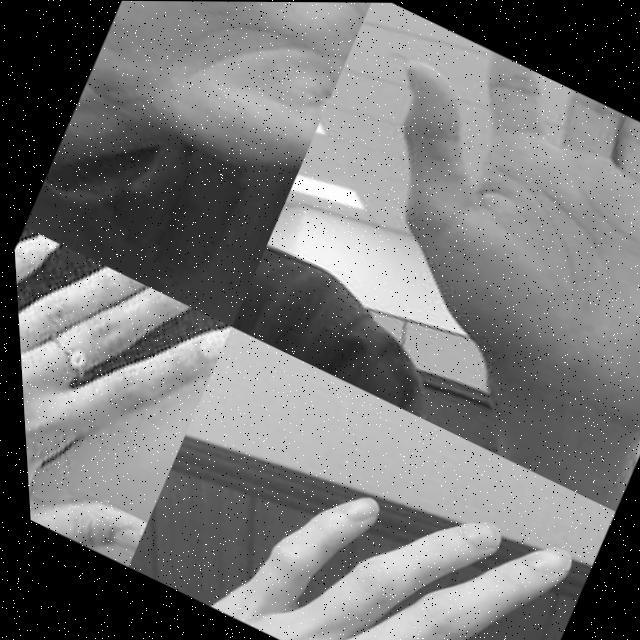no-gloves: (305, 18, 640, 430), (110, 375, 590, 640), (11, 225, 238, 566), (76, 1, 383, 190)
